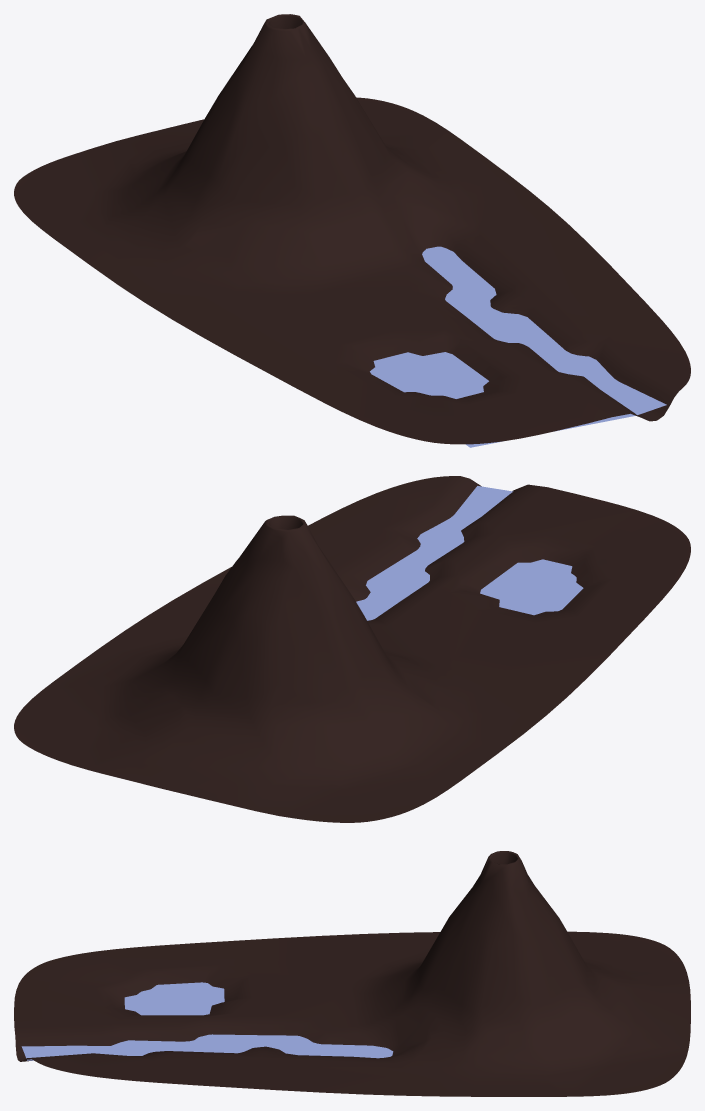
Rendered from volcano model 1.fbx.
3 renders of one model, top to bottom at view 1: azimuth 30°, elevation 25°; view 2: azimuth 150°, elevation 25°; view 3: azimuth 270°, elevation 25°, orthographic. The views are drawn at different scales.
Visible parts, largest first — view 1: land, water; view 2: land, water; view 3: land, water.
Boxes of the visible parts, x1=… form: land: x1=14, y1=14, x2=690, y2=444; water: x1=370, y1=246, x2=666, y2=447; land: x1=14, y1=476, x2=690, y2=822; water: x1=356, y1=486, x2=583, y2=620; land: x1=14, y1=851, x2=690, y2=1096; water: x1=21, y1=982, x2=393, y2=1060.
Bounding box in the file's own units: 543 × 261 × 940.
